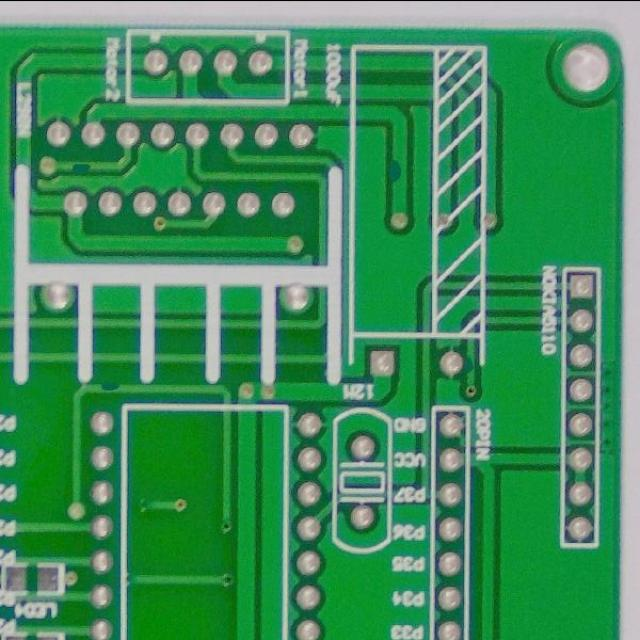mouse_bite: (383, 150, 410, 191), (62, 154, 98, 179), (457, 348, 483, 382), (92, 371, 122, 398)
